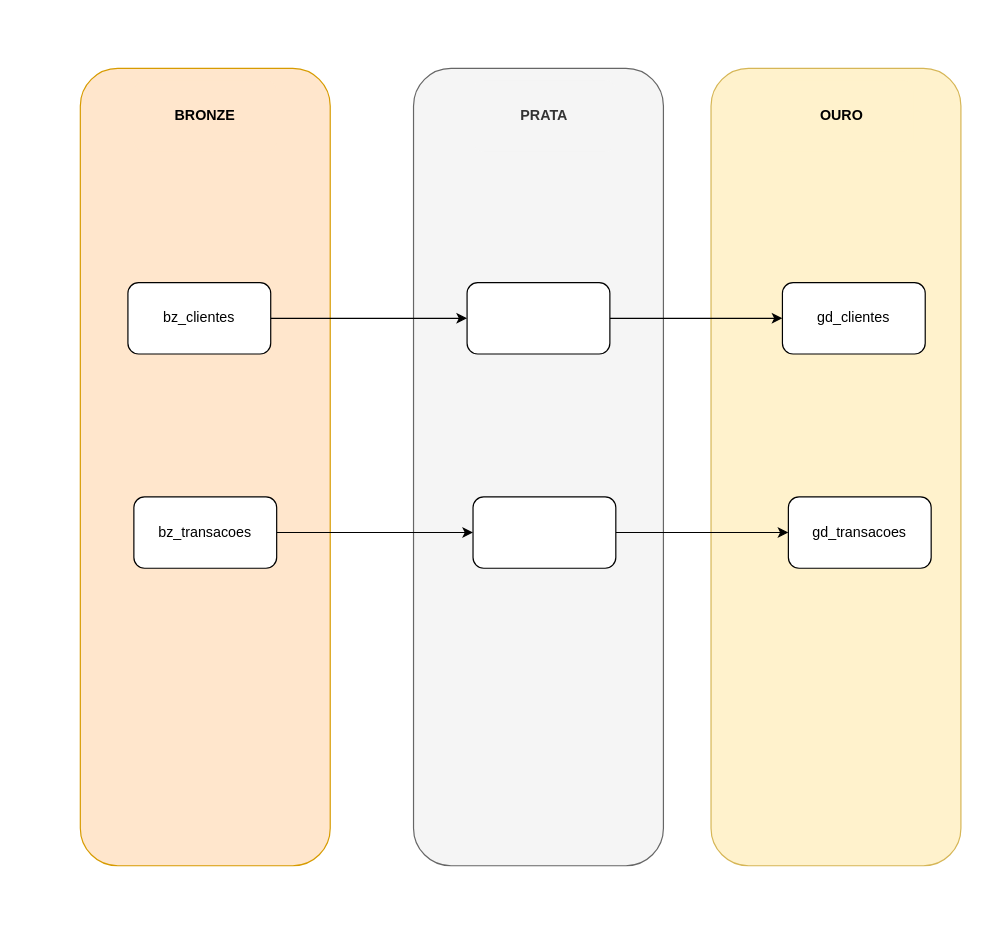
Some shapes in this 1006 by 934 pixel diagram are drawn without their labels. Here are the shapes that lost their labels. From the top down, the centre of each, then its label:
At point (538, 317): "sl_clientes".
At point (544, 532): "sl_transacoes".
